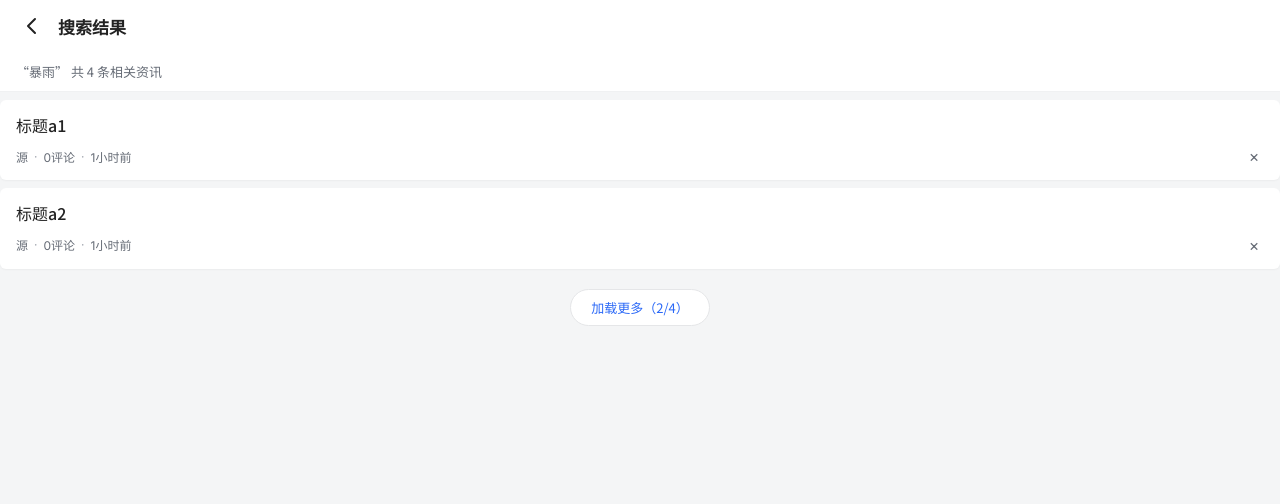
Test: views/SearchResults 分页语义（A5） › 加载更多是追加而非整段替换
Click the button with class "results__more-btn" at (640, 307), box [570, 289, 710, 326]
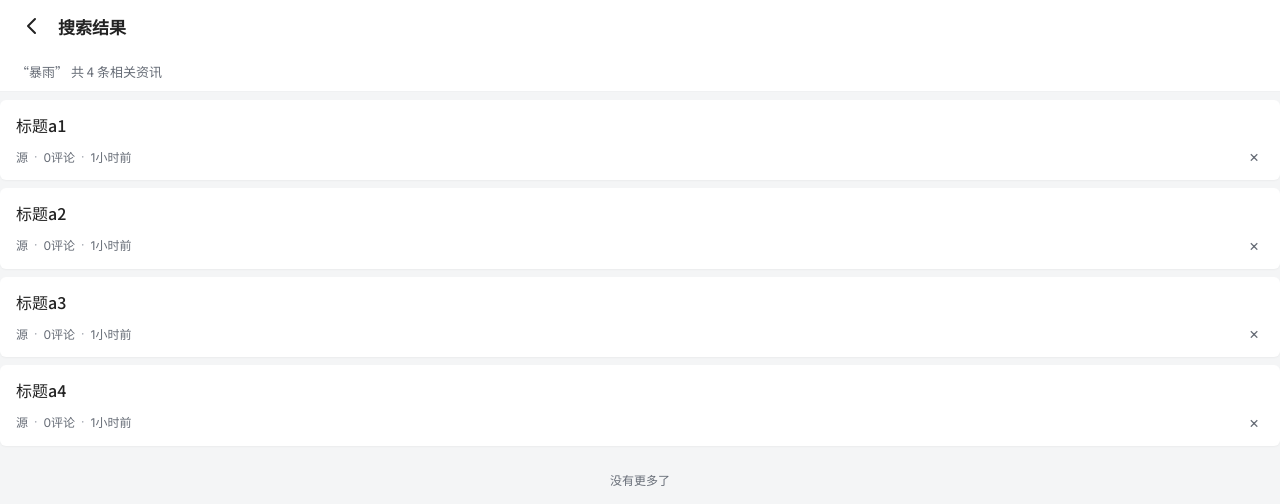
Now the text "没有更多了" is shown, box [610, 471, 670, 488]
